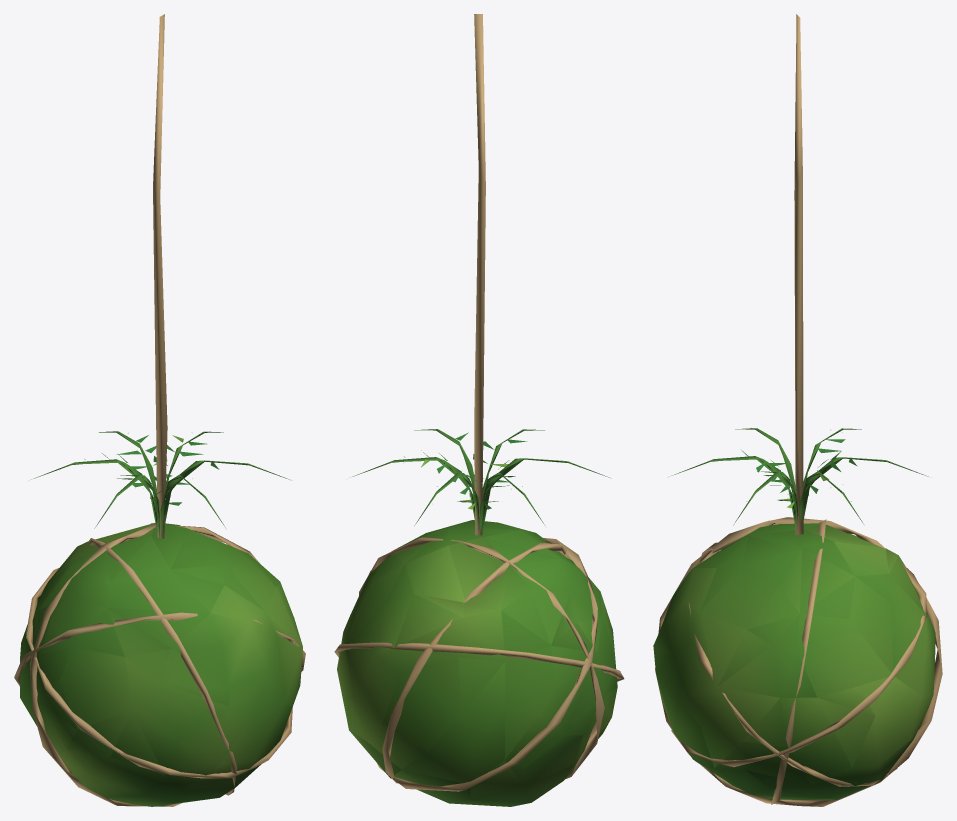
The model's file is canopy_kokedama_lod2.glb.
The picture shows the model from 3 angles, left to right: view 1: azimuth 30°, elevation 25°; view 2: azimuth 150°, elevation 25°; view 3: azimuth 270°, elevation 25°; orthographic projection.
Parts seen in each view (by area): view 1: canopy_kokedama.001; view 2: canopy_kokedama.001; view 3: canopy_kokedama.001.
Part boxes in pixels (x1,y1,x2,y2): canopy_kokedama.001: (14, 14, 305, 806); canopy_kokedama.001: (334, 14, 624, 806); canopy_kokedama.001: (653, 14, 942, 806).
Size of the model in its own units: 4.98 by 14.69 by 4.94.
